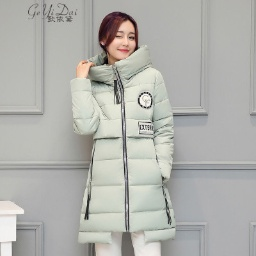face: (93, 10, 142, 58)
